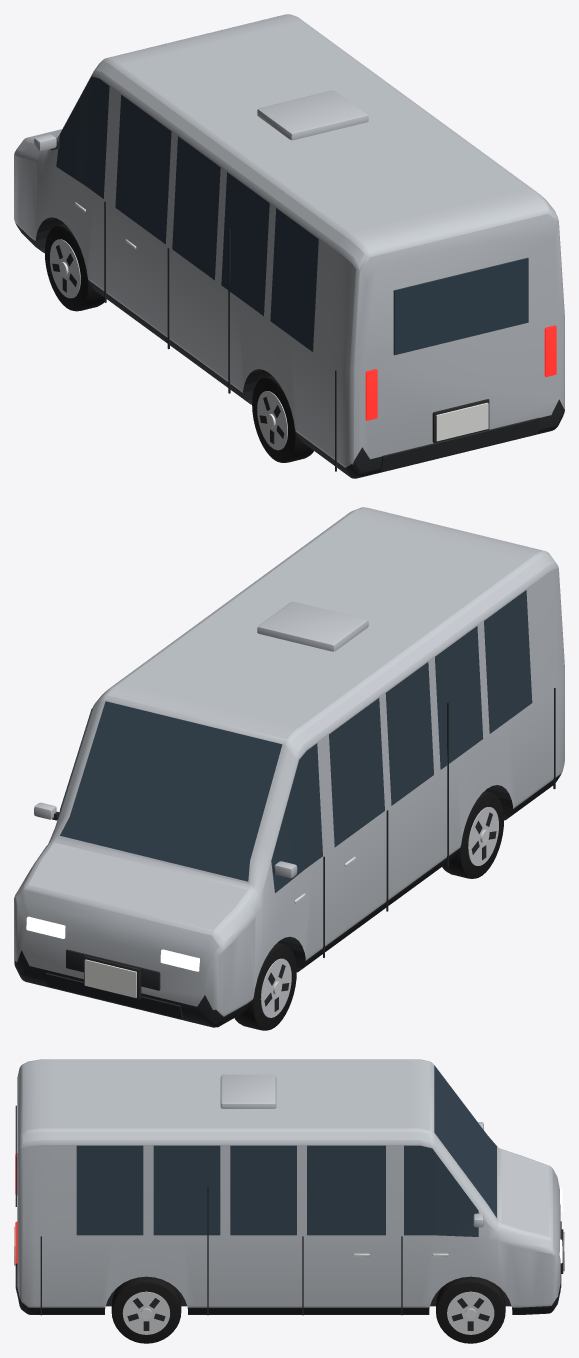
Rendered from van.glb.
The picture shows the model from 3 angles, top to bottom: view 1: azimuth 30°, elevation 25°; view 2: azimuth 150°, elevation 25°; view 3: azimuth 270°, elevation 25°; orthographic projection. The views are drawn at different scales.
Visible parts, largest first — view 1: CAR_van; view 2: CAR_van; view 3: CAR_van.
Part boxes in pixels (x1,y1,x2,y2): CAR_van: (14, 14, 564, 478); CAR_van: (14, 507, 564, 1030); CAR_van: (14, 1059, 564, 1343).
Bounding box in the file's own units: 2.31 × 2.36 × 5.45.
